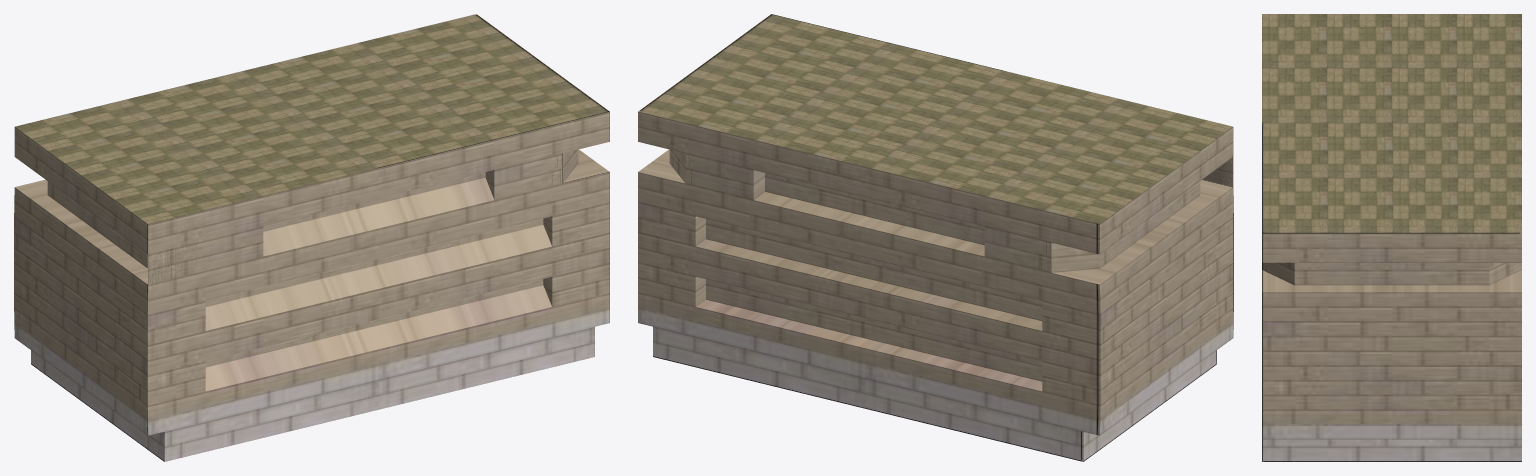
The model's file is ground_03.fbx.
3 renders of one model, left to right at view 1: azimuth 30°, elevation 25°; view 2: azimuth 150°, elevation 25°; view 3: azimuth 270°, elevation 25°, orthographic. The views are drawn at different scales.
Parts seen in each view (by area): view 1: Cube; view 2: Cube; view 3: Cube.
Part boxes in pixels (bbox=[...]): Cube: bbox=[14, 14, 609, 461]; Cube: bbox=[638, 14, 1233, 461]; Cube: bbox=[1262, 14, 1521, 461].
Bounding box in the file's own units: 4005 × 2000 × 2000.
1 material, 1 textured.
